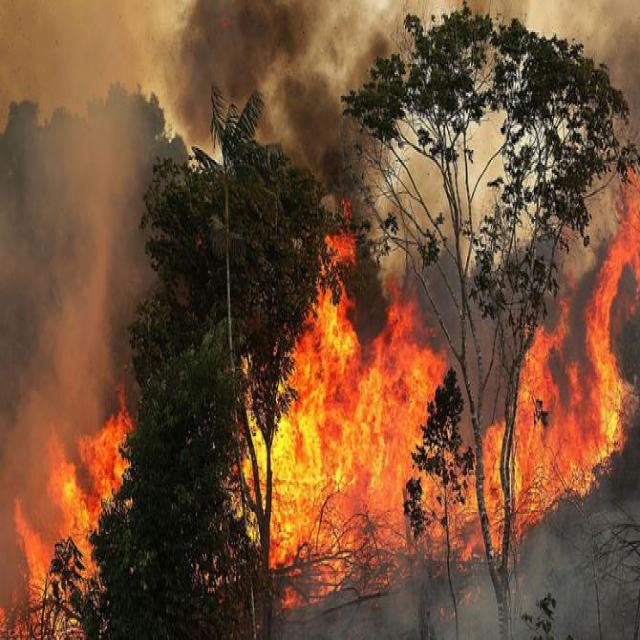fire: (273, 322, 422, 545), (518, 335, 614, 495)
